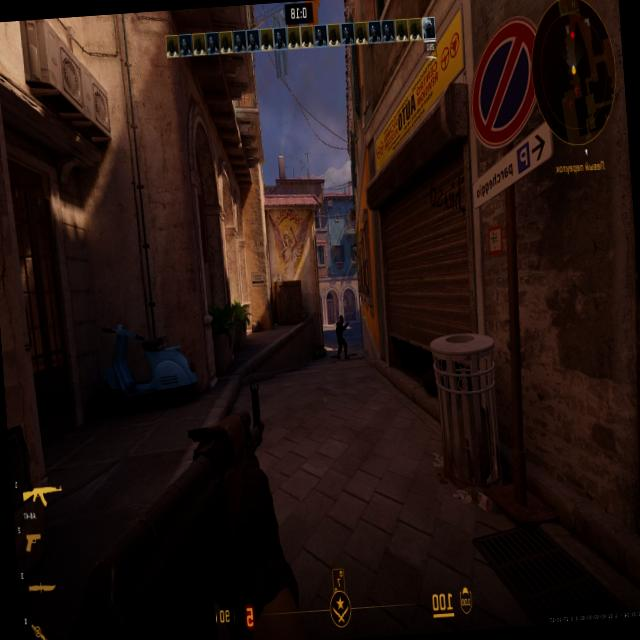CT: (334, 314, 348, 354)
CT_heat: (338, 314, 343, 323)
